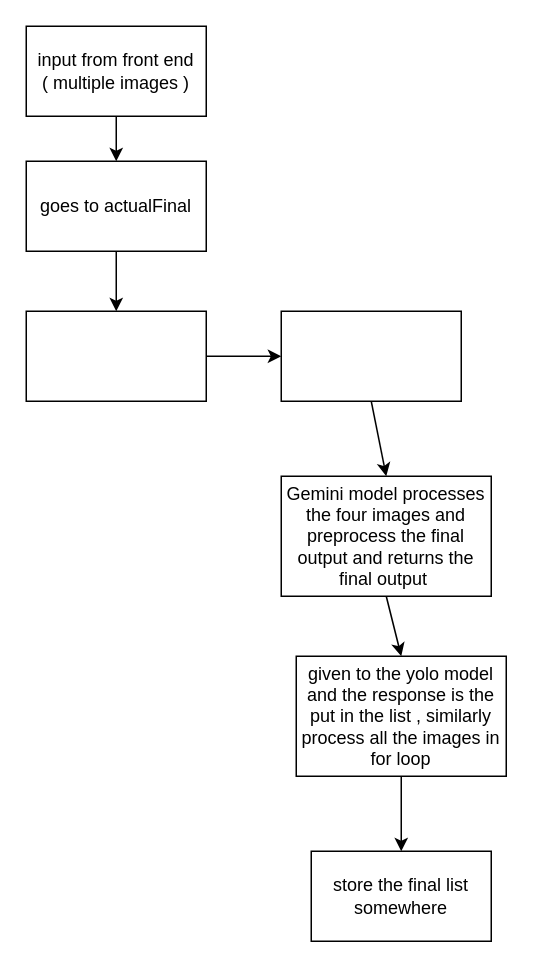
The diagram is 533 pixels wide and 968 high, and some of its shapes have lost their labels. Each missing label, with the centre of its shape:
"calls yoloModule" belongs at point 115,355.
"Yolo module first splits one image and calls gemini model" belongs at point 370,355.
